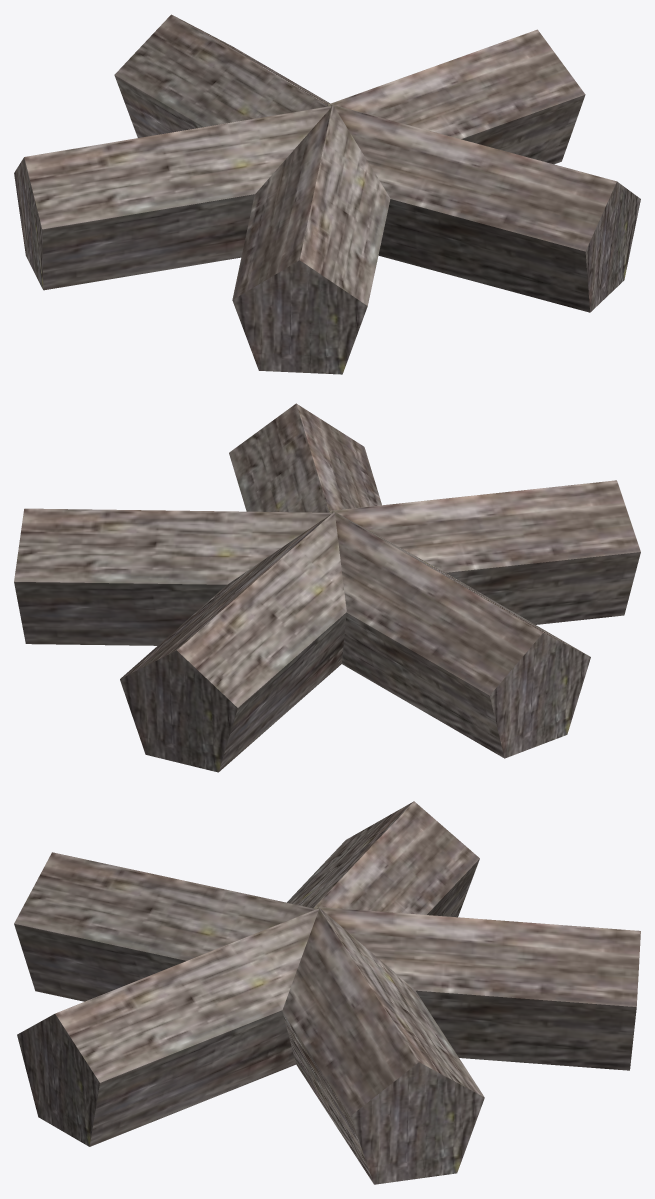
Rendered from CAMPFIRE.glb.
3 views of the same model, one above another, from view 1: azimuth 30°, elevation 25°; view 2: azimuth 150°, elevation 25°; view 3: azimuth 270°, elevation 25° (orthographic). The views are drawn at different scales.
Parts seen in each view (by area): view 1: CAMPFIRE; view 2: CAMPFIRE; view 3: CAMPFIRE.
Part boxes in pixels (x1,y1,x2,y2): CAMPFIRE: (14, 14, 640, 374); CAMPFIRE: (14, 403, 640, 772); CAMPFIRE: (14, 801, 640, 1184).
Size of the model in its own units: 1.32 by 0.3245 by 1.27.
Materials: 1 (1 with a texture image).
